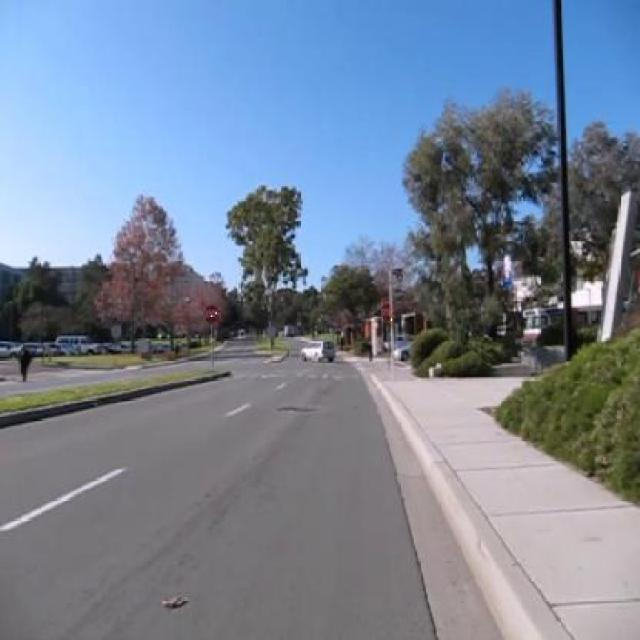stop: (378, 300, 395, 322), (203, 305, 219, 326)
